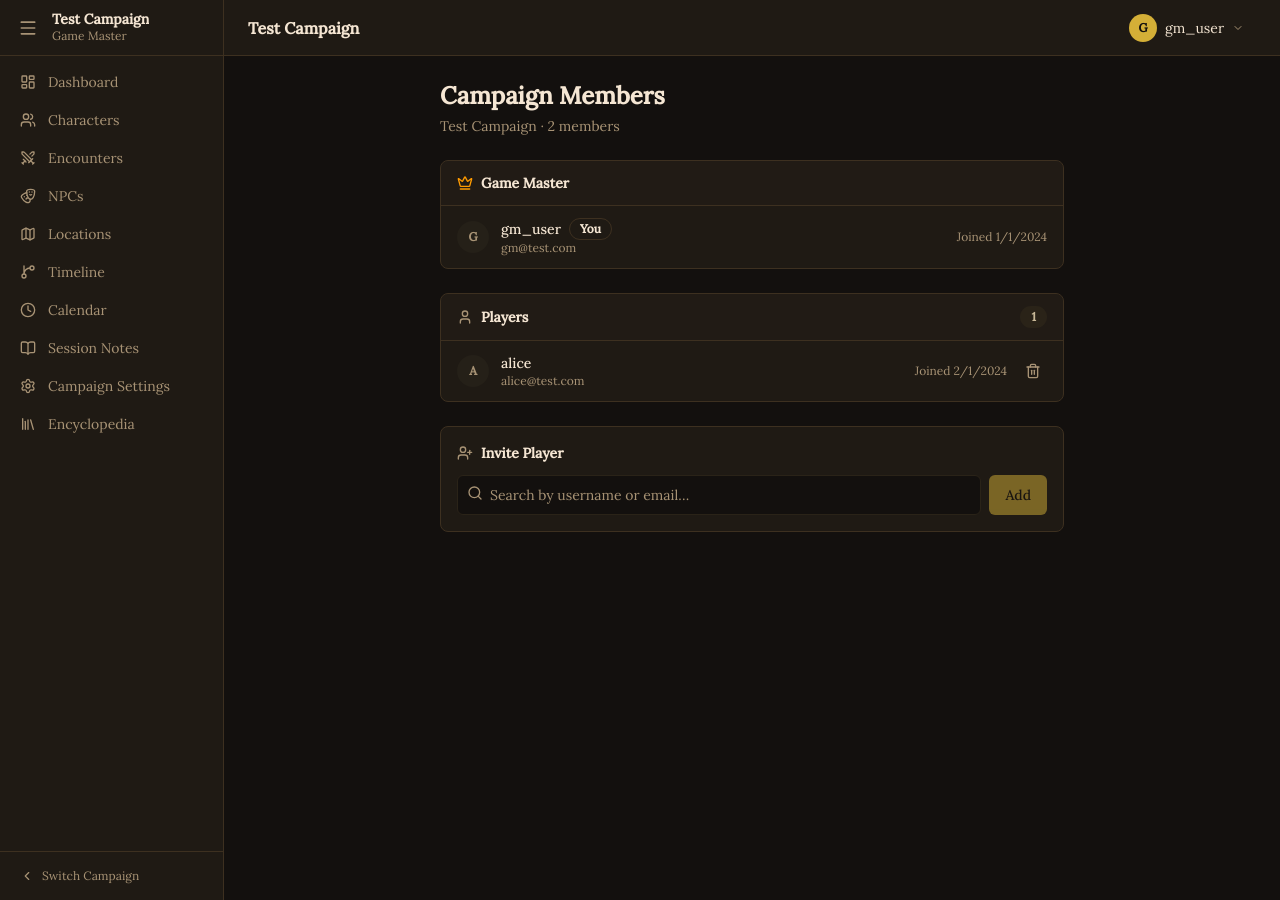
Test: CampaignMembers › shows error when addPlayer fails
Type "bo" into the field with test id "invite-search" at coordinates (719, 495), box [457,475,981,515]
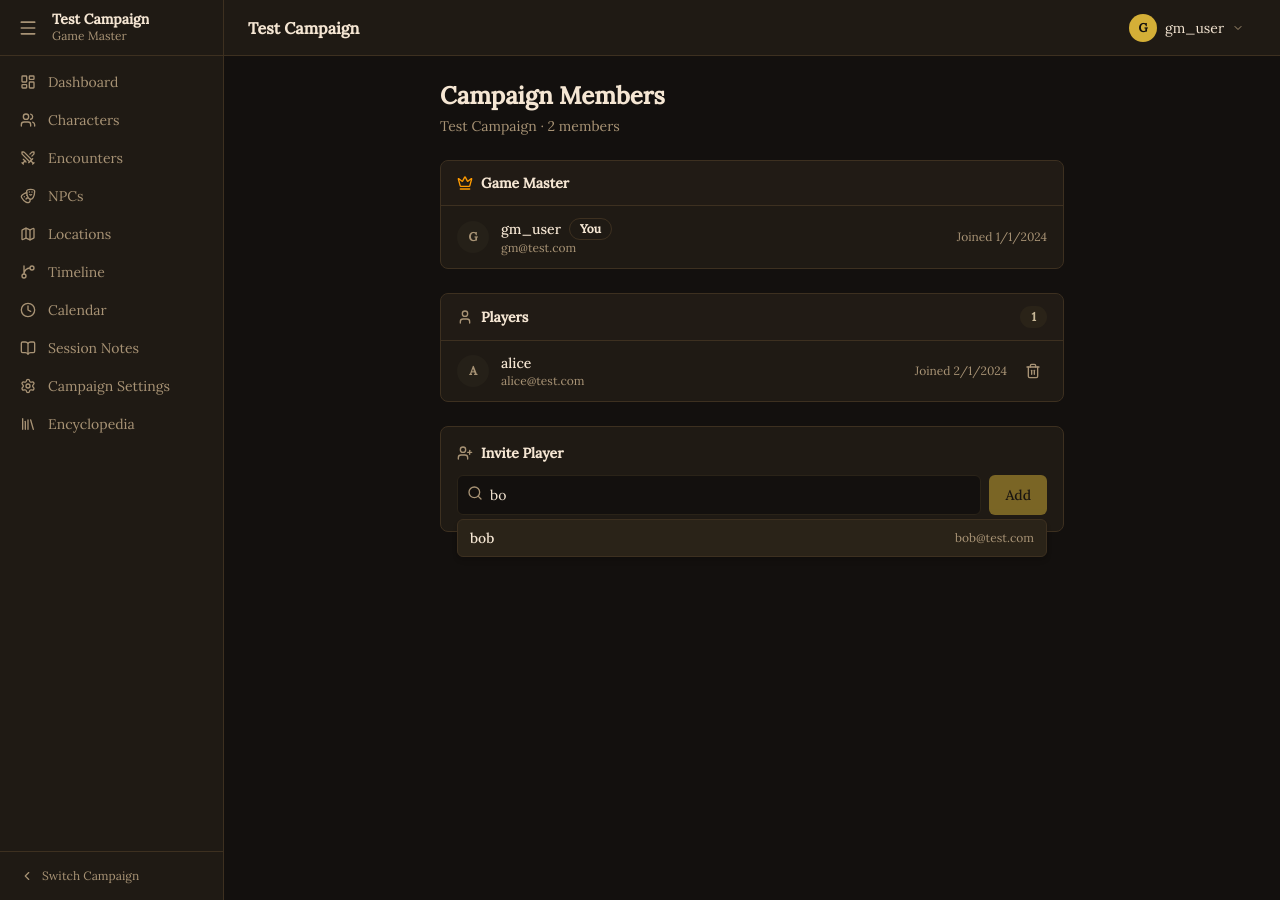
Expected: the button with test id "search-result-99" is shown
Click the button with test id "search-result-99" at coordinates (995, 538), box [458,520,1046,556]
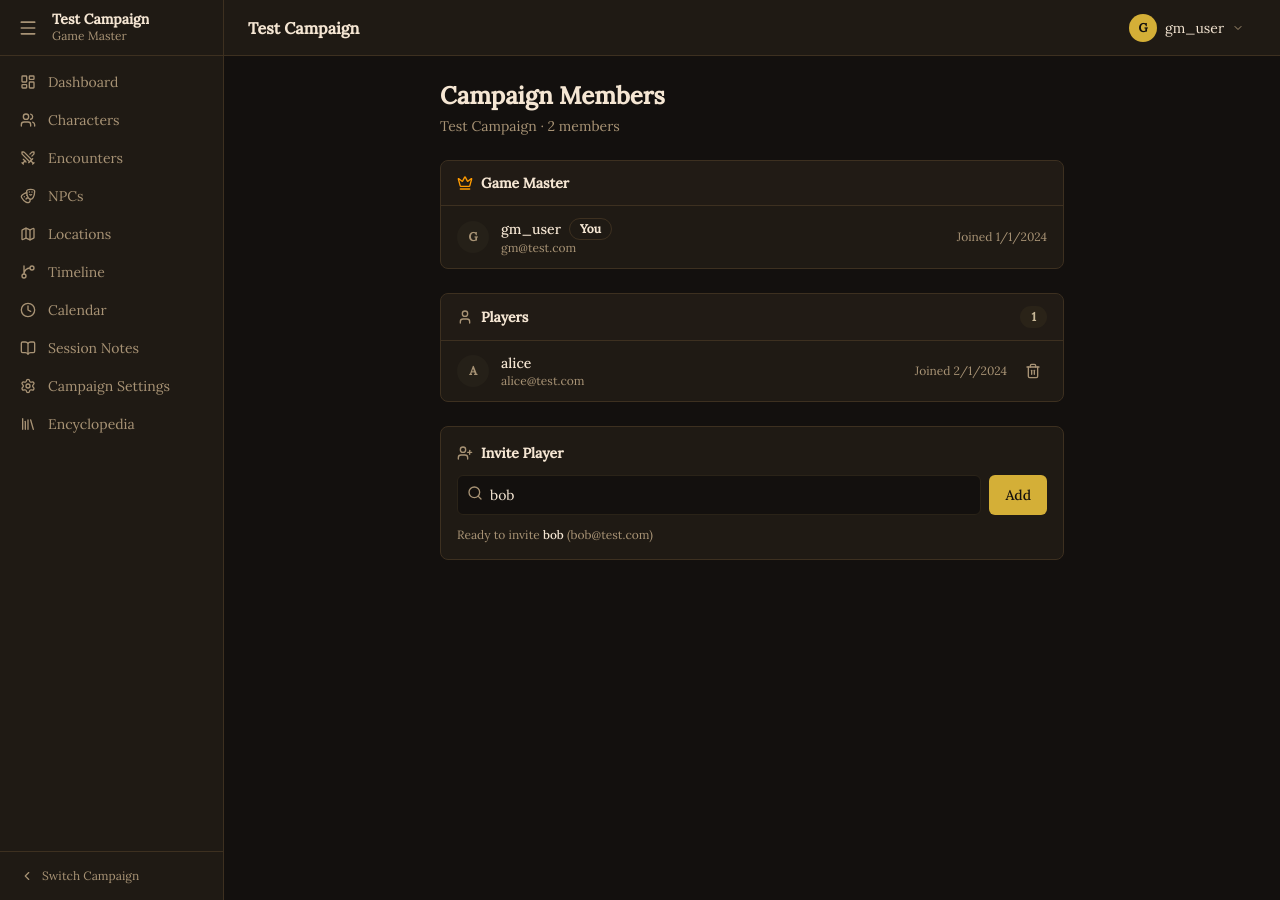
Click the button "Add" at coordinates (1018, 495), box [989,475,1047,515]
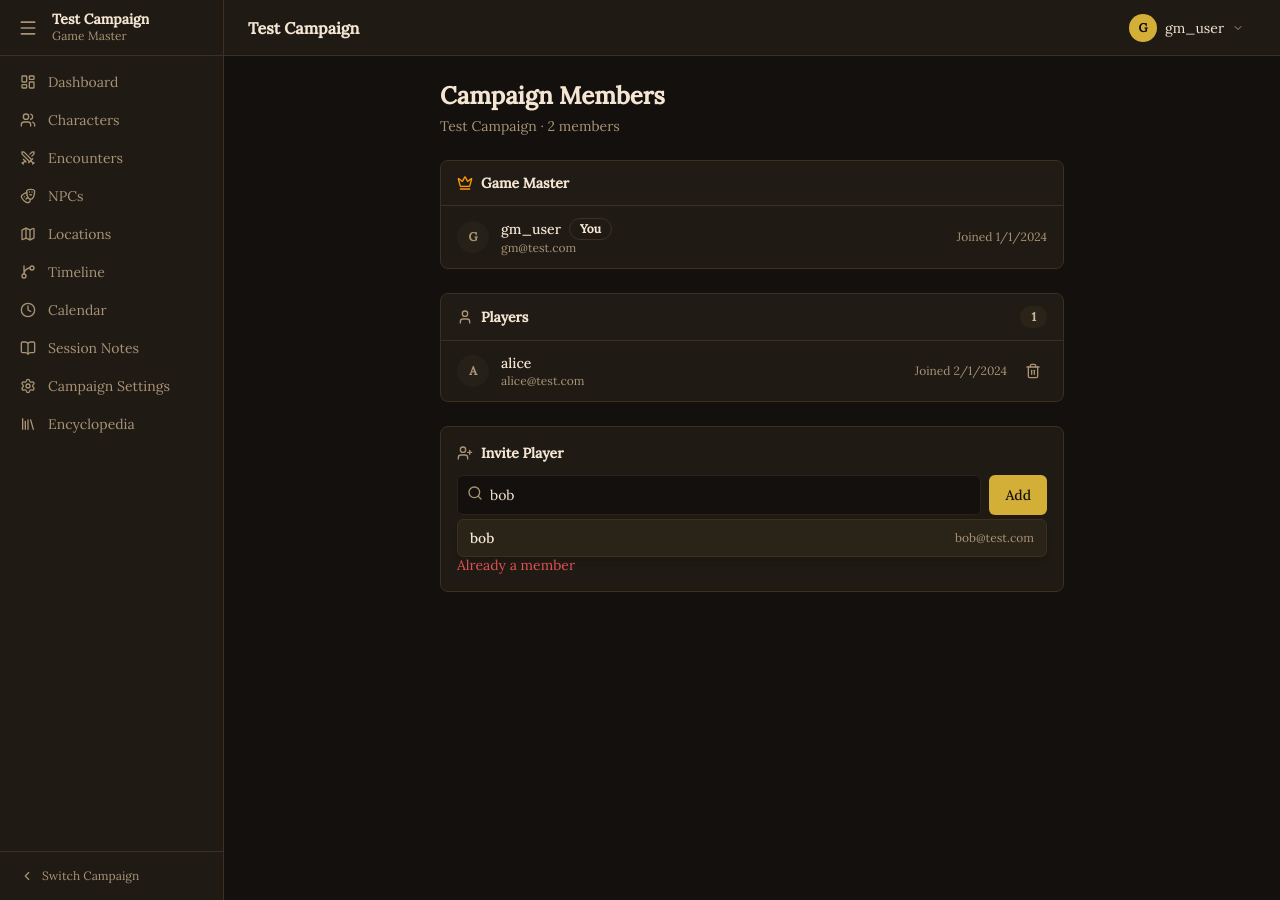
Expected: the text "Already a member" is shown, [457,556,575,574]
